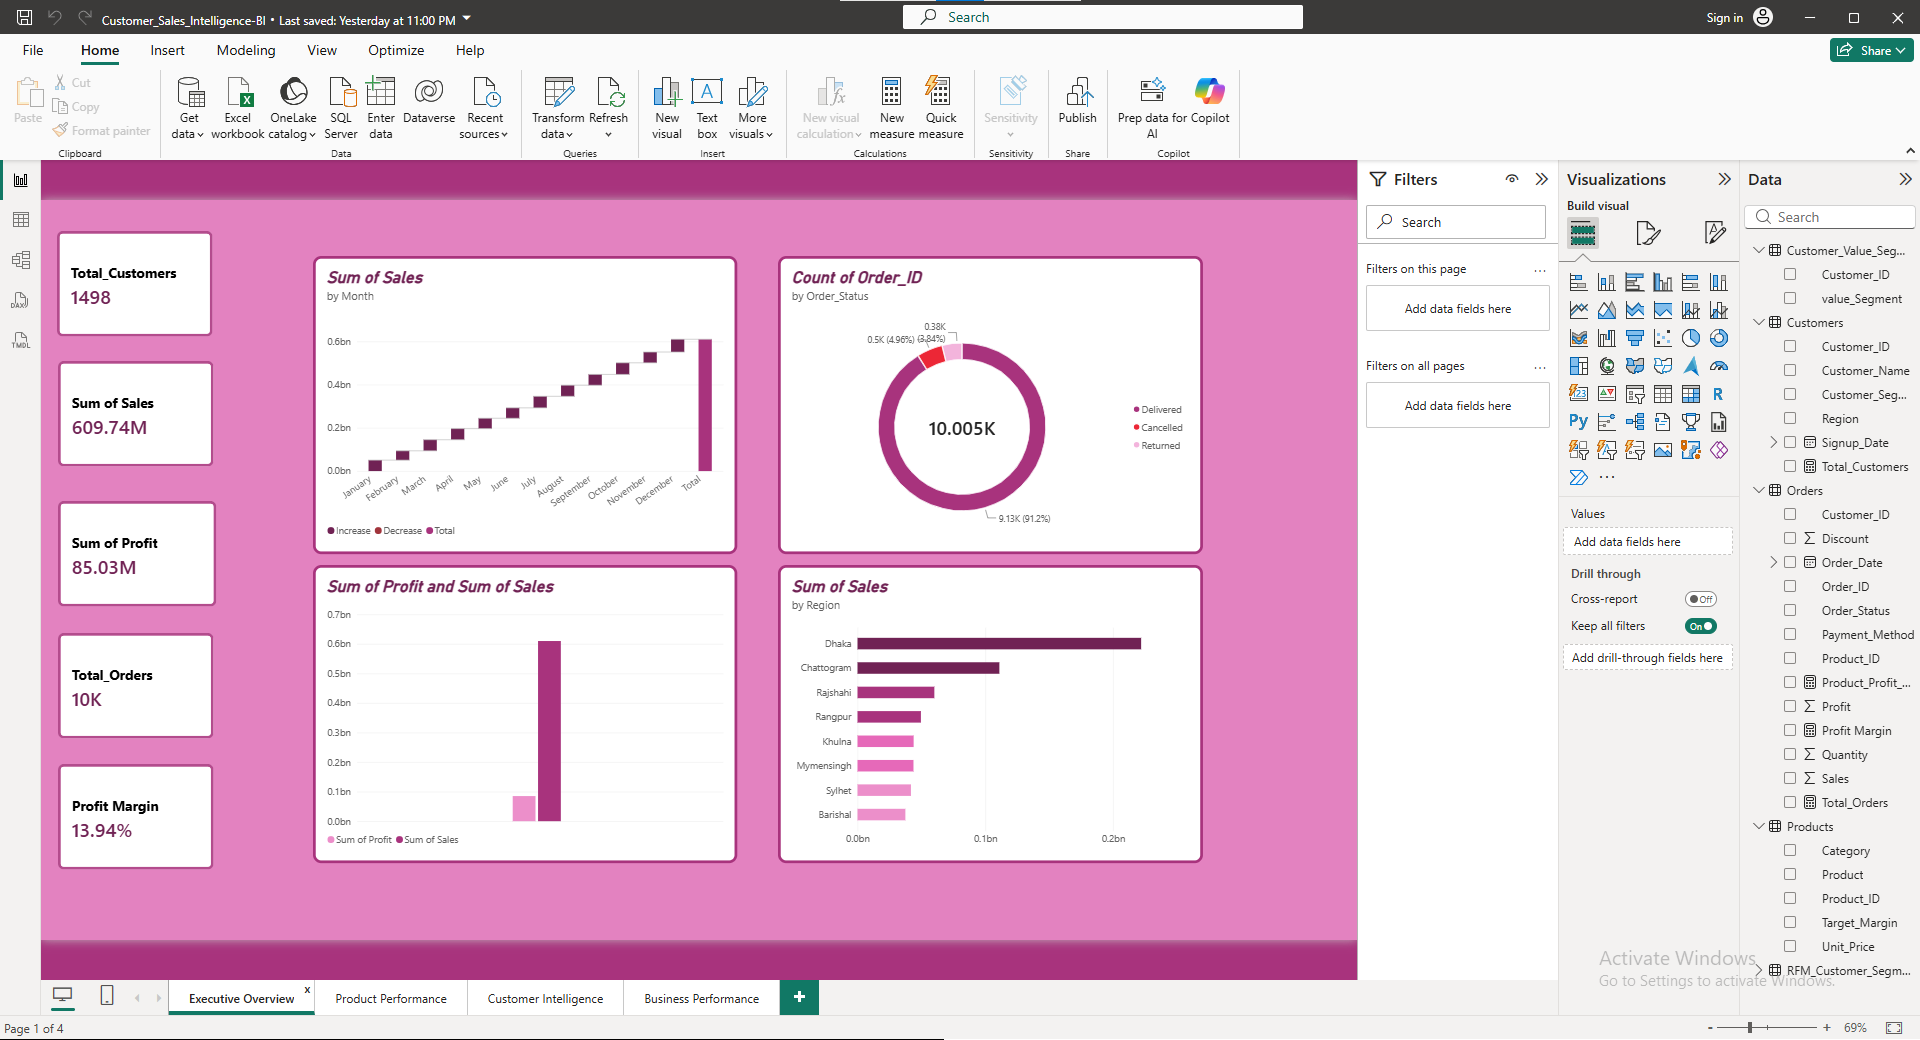

This screenshot's page, from the dashboard's own definition file:
{"tool":"powerbi","page":{"name":"Executive Overview","canvas":[1920,1080],"ordinal":0},"visuals":[{"type":"cardVisual","fields":{"Data":["Sum(Orders.Sales)"]},"box":[24.8,234.9,227.6,154.7],"z":0},{"type":"cardVisual","fields":{"Data":["Sum(Orders.Profit)"]},"box":[24.8,439.1,232,154.7],"z":1000},{"type":"cardVisual","fields":{"Data":["Orders.Total_Orders"]},"box":[24.8,631.7,227.6,154.7],"z":2000},{"type":"cardVisual","fields":{"Data":["Orders.Profit Margin"]},"box":[24.8,822.9,227.6,154.7],"z":3000},{"type":"cardVisual","fields":{"Data":["Customers.Total_Customers"]},"box":[23.3,45.2,227.6,154.7],"z":4000},{"type":"waterfallChart","fields":{"Category":["Orders.Order_Date.Variation.Date Hierarchy.Month"],"Y":["Sum(Orders.Sales)"]},"box":[396.8,81.7,618.6,434.8],"z":5000},{"type":"clusteredColumnChart","fields":{"Y":["Sum(Orders.Profit)","Sum(Orders.Sales)"]},"box":[396.8,532.5,618.6,434.8],"z":6000},{"type":"donutChart","fields":{"Category":["Orders.Order_Status"],"Y":["CountNonNull(Orders.Order_ID)"]},"box":[1075.3,81.7,620.1,434.8],"z":7000},{"type":"clusteredBarChart","fields":{"Category":["Customers.Region"],"Y":["Sum(Orders.Sales)"]},"box":[1075.3,532.5,620.1,434.8],"z":8000}]}

Visuals, with their boxes on the page's 1920x1080 design canvas (x1, y1, x2, y2). These are canvas units, not pixel positions in the 1920x1040 screenshot, which may show the page scaled, cropped or inside an application window:
cardVisual - Sum(Orders.Sales): 25 235 252 390
cardVisual - Sum(Orders.Profit): 25 439 257 594
cardVisual - Orders.Total_Orders: 25 632 252 786
cardVisual - Orders.Profit Margin: 25 823 252 978
cardVisual - Customers.Total_Customers: 23 45 251 200
waterfallChart - Orders.Order_Date.Variation.Date Hierarchy.Month x Sum(Orders.Sales): 397 82 1015 516
clusteredColumnChart - Sum(Orders.Profit) x Sum(Orders.Sales): 397 532 1015 967
donutChart - Orders.Order_Status x CountNonNull(Orders.Order_ID): 1075 82 1695 516
clusteredBarChart - Customers.Region x Sum(Orders.Sales): 1075 532 1695 967
